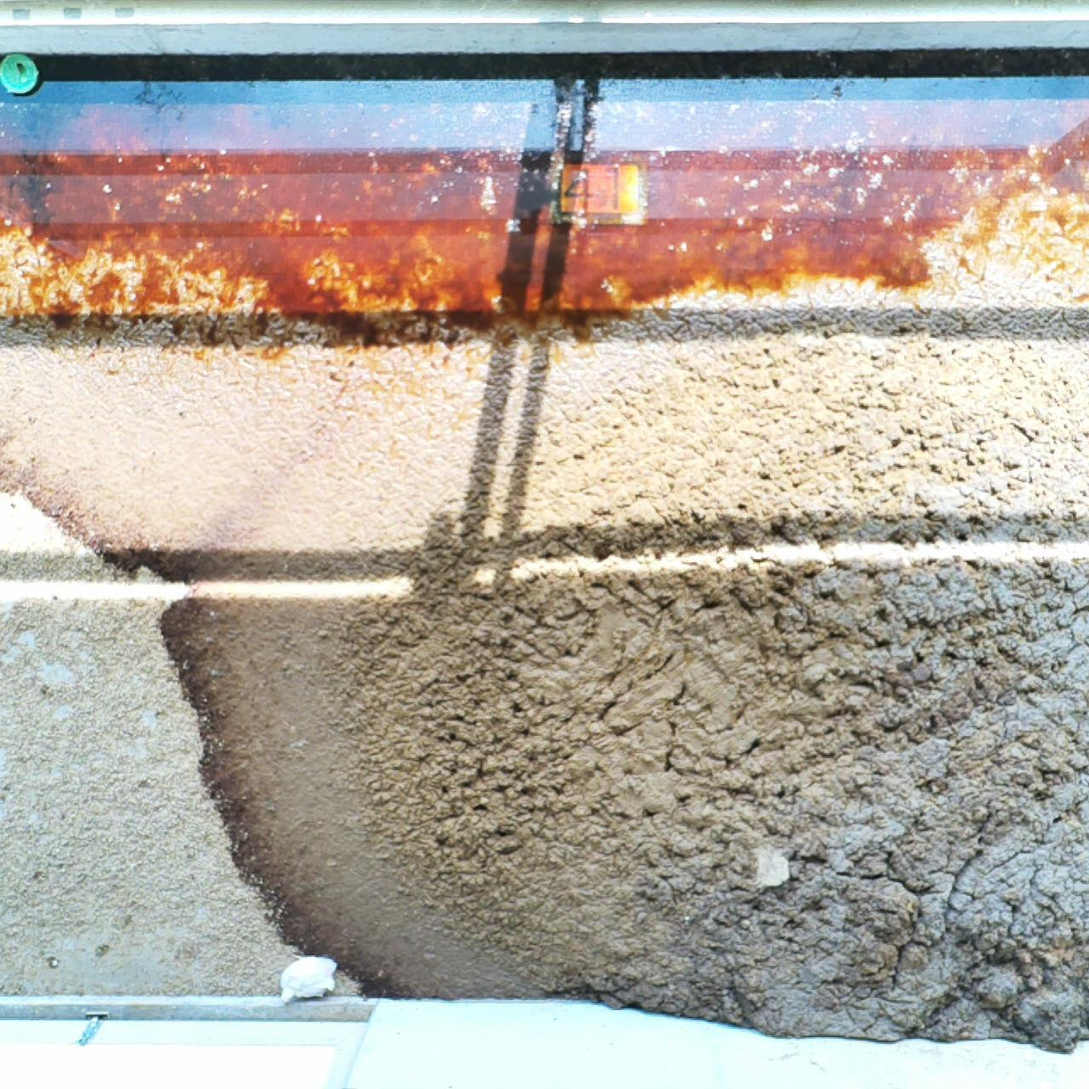chicken: (281, 955, 339, 1001)
